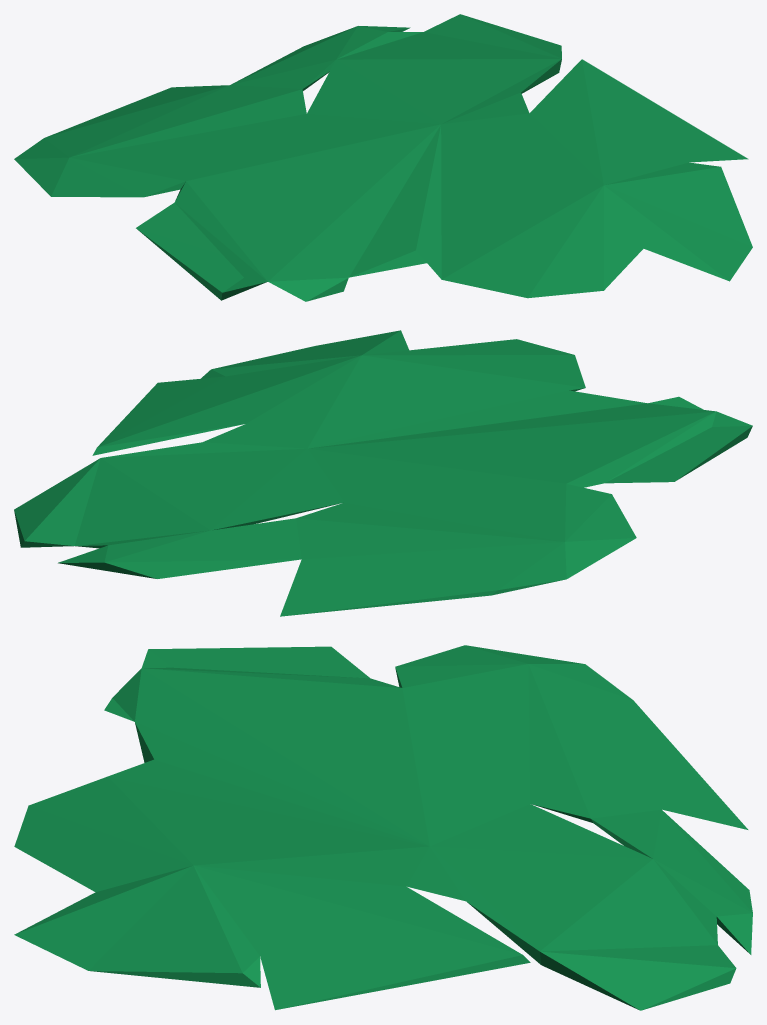
The model's file is lettuce.fbx.
The picture shows the model from 3 angles, top to bottom: view 1: azimuth 30°, elevation 25°; view 2: azimuth 150°, elevation 25°; view 3: azimuth 270°, elevation 25°; orthographic projection. The views are drawn at different scales.
Parts seen in each view (by area): view 1: lettuce; view 2: lettuce; view 3: lettuce.
Boxes of the visible parts, left/top/right/bottom form: lettuce: left=14, top=14, right=752, bottom=301; lettuce: left=14, top=330, right=752, bottom=616; lettuce: left=14, top=645, right=752, bottom=1010.
Bounding box in the file's own units: 1.66 × 0.1699 × 1.64.
